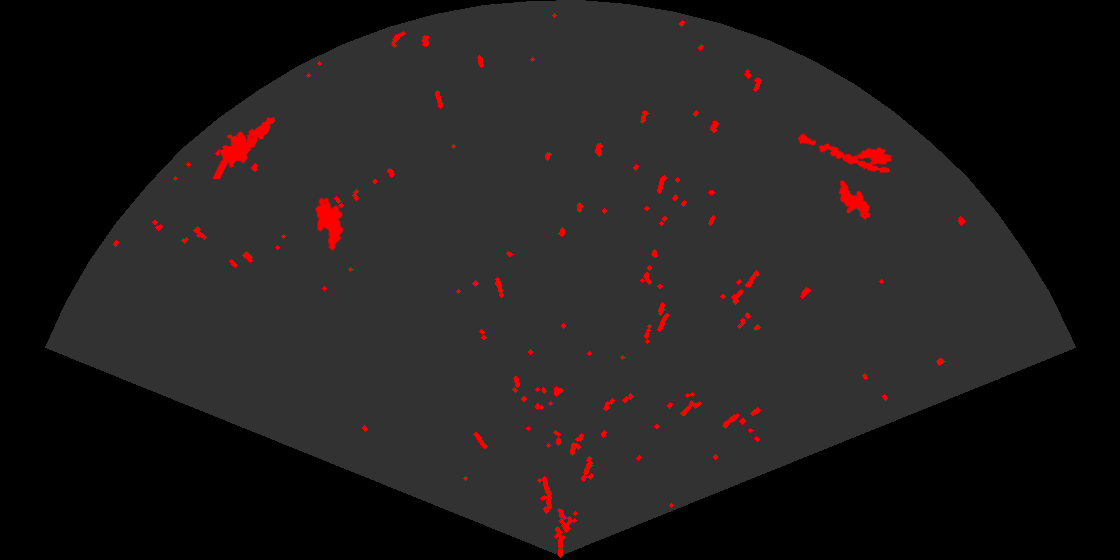AUV: (314, 195, 345, 253), (837, 179, 872, 222), (853, 145, 894, 167)
chain: (796, 132, 891, 174)
frogman: (211, 115, 277, 179)
